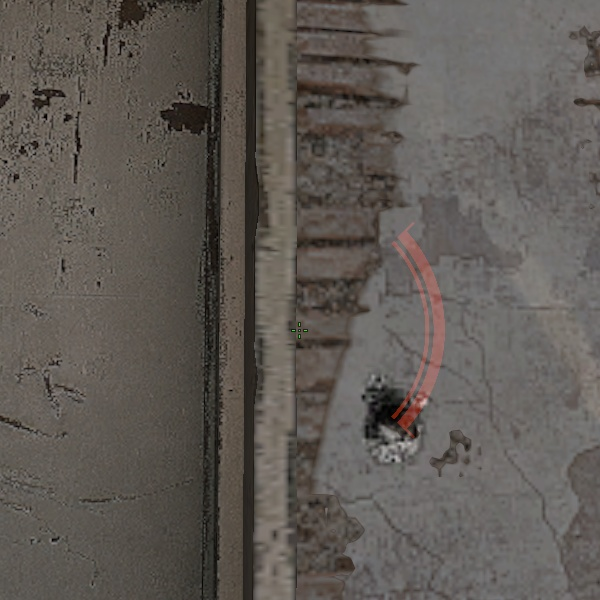ct_body: (363, 373, 404, 436)
